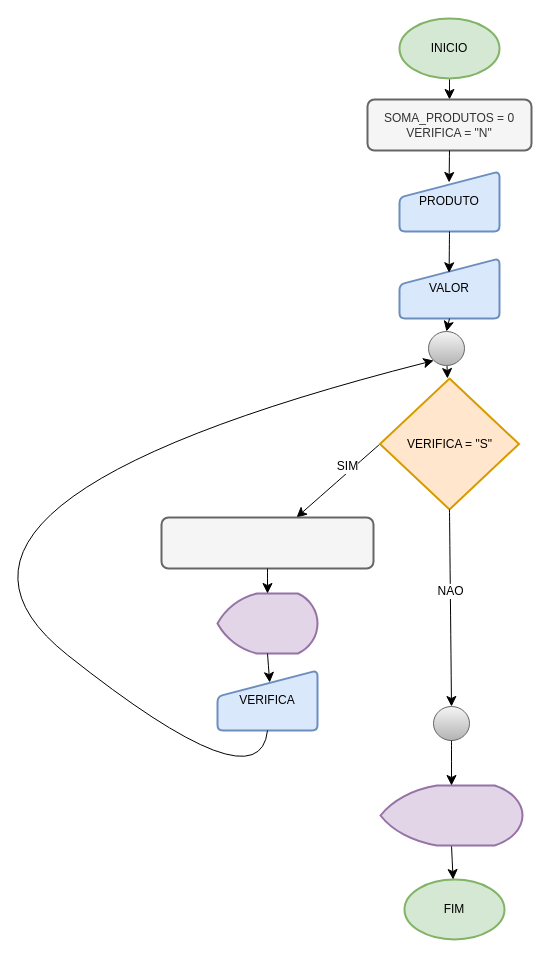
Image size: 550x957. Some labels were removed from this diagram. The centre of each missing label's shape, as x and y in pixels:
"CONTINUAR?" goes at point (267, 623).
"SOMA_PRODUTOS" goes at point (451, 815).
"SOMA_PRODUTOS = SOMA_PRODUTOS + VALOR" goes at point (267, 542).
